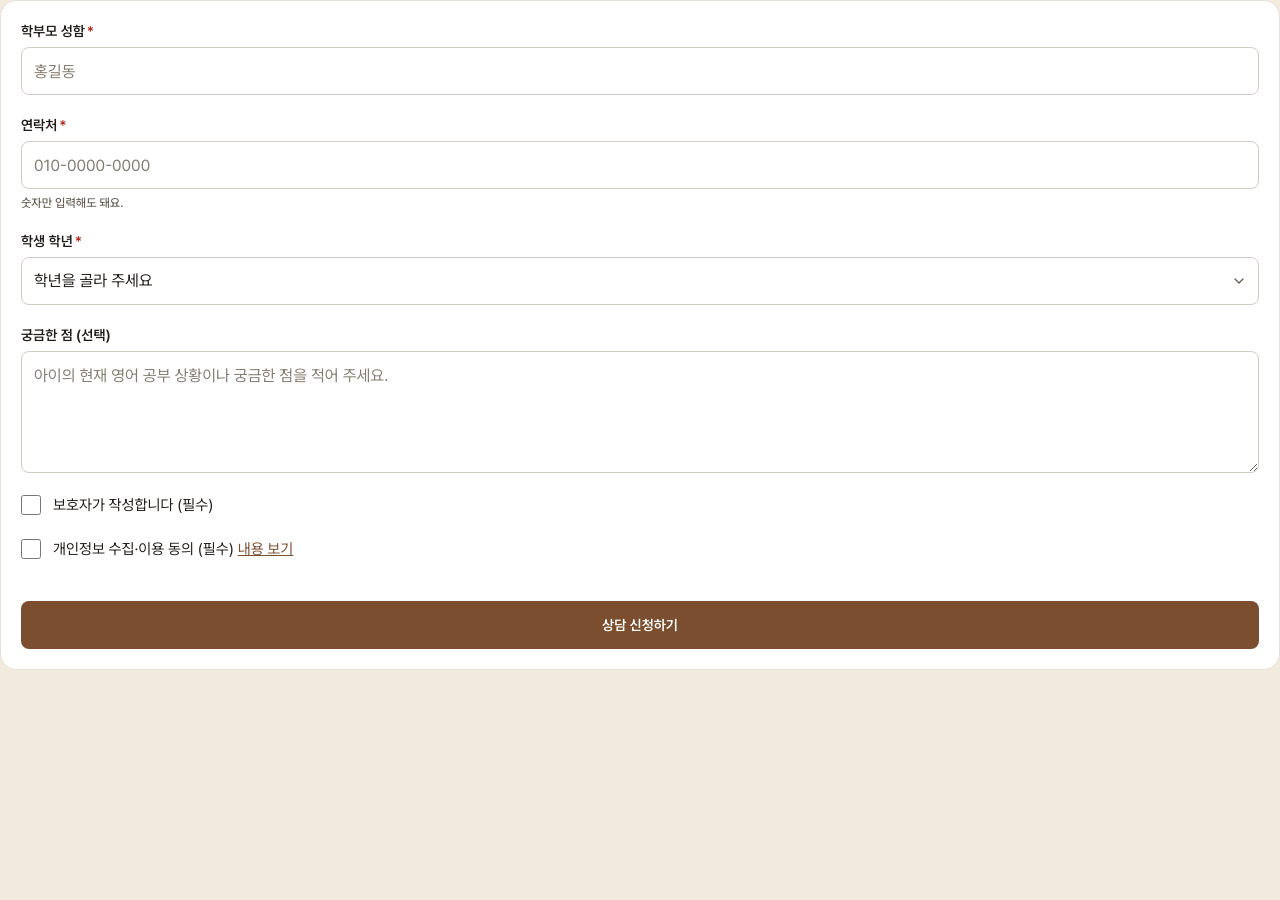
Test: ConsultForm › formats the phone number while typing
The width and height of the screenshot is (1280, 900).
Type "01012345678" into the field labelled "연락처*". click: (640, 165)
box: [21, 141, 1259, 189]
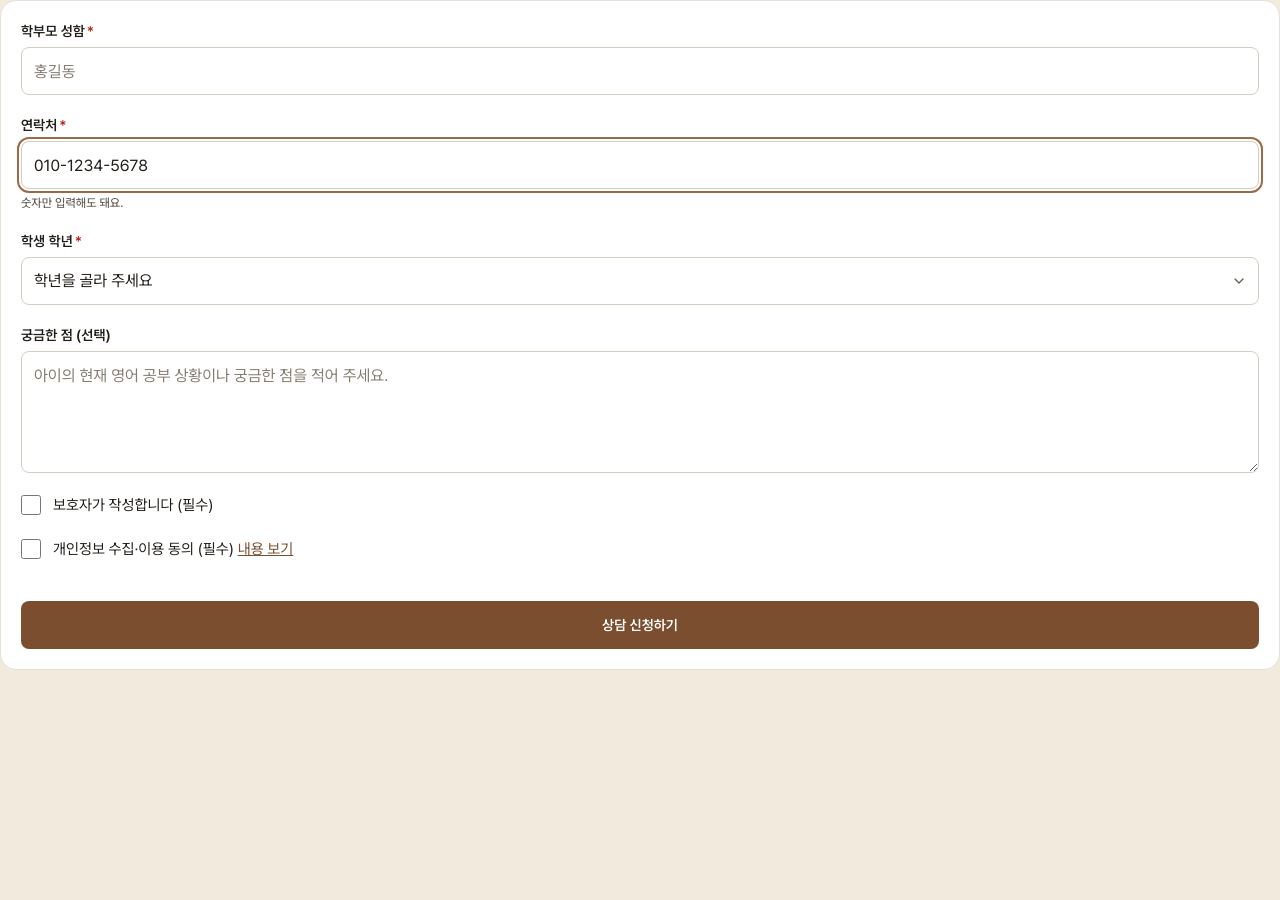
Expected: the field labelled "연락처*" holds "010-1234-5678", [21, 141, 1259, 189]
